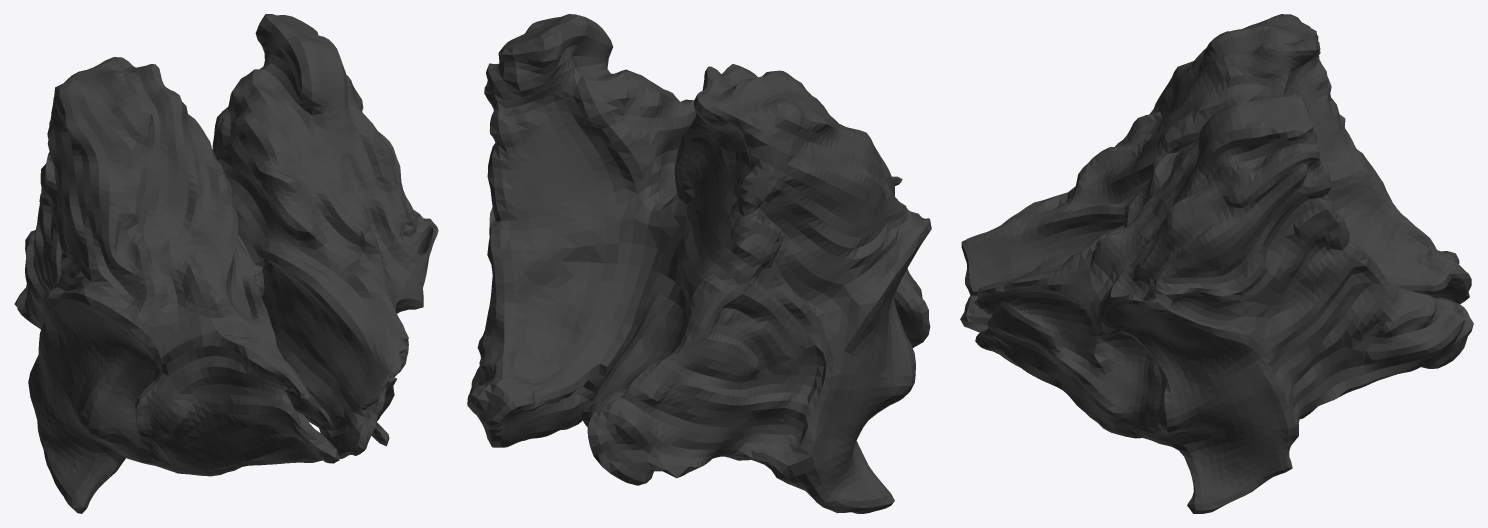
The model's file is Ethmoid_close_holes_filled_MAIN.glb.
3 renders of one model, left to right at view 1: azimuth 30°, elevation 25°; view 2: azimuth 150°, elevation 25°; view 3: azimuth 270°, elevation 25°, orthographic. The views are drawn at different scales.
Parts seen in each view (by area): view 1: Ethmoid_close_holes_filled_MAIN; view 2: Ethmoid_close_holes_filled_MAIN; view 3: Ethmoid_close_holes_filled_MAIN.
Part boxes in pixels (x1,y1,x2,y2): Ethmoid_close_holes_filled_MAIN: (14, 14, 438, 513); Ethmoid_close_holes_filled_MAIN: (467, 14, 931, 513); Ethmoid_close_holes_filled_MAIN: (960, 14, 1473, 513).
Bounding box in the file's own units: 227 × 253 × 303.
Materials: 1 (1 with a texture image).
